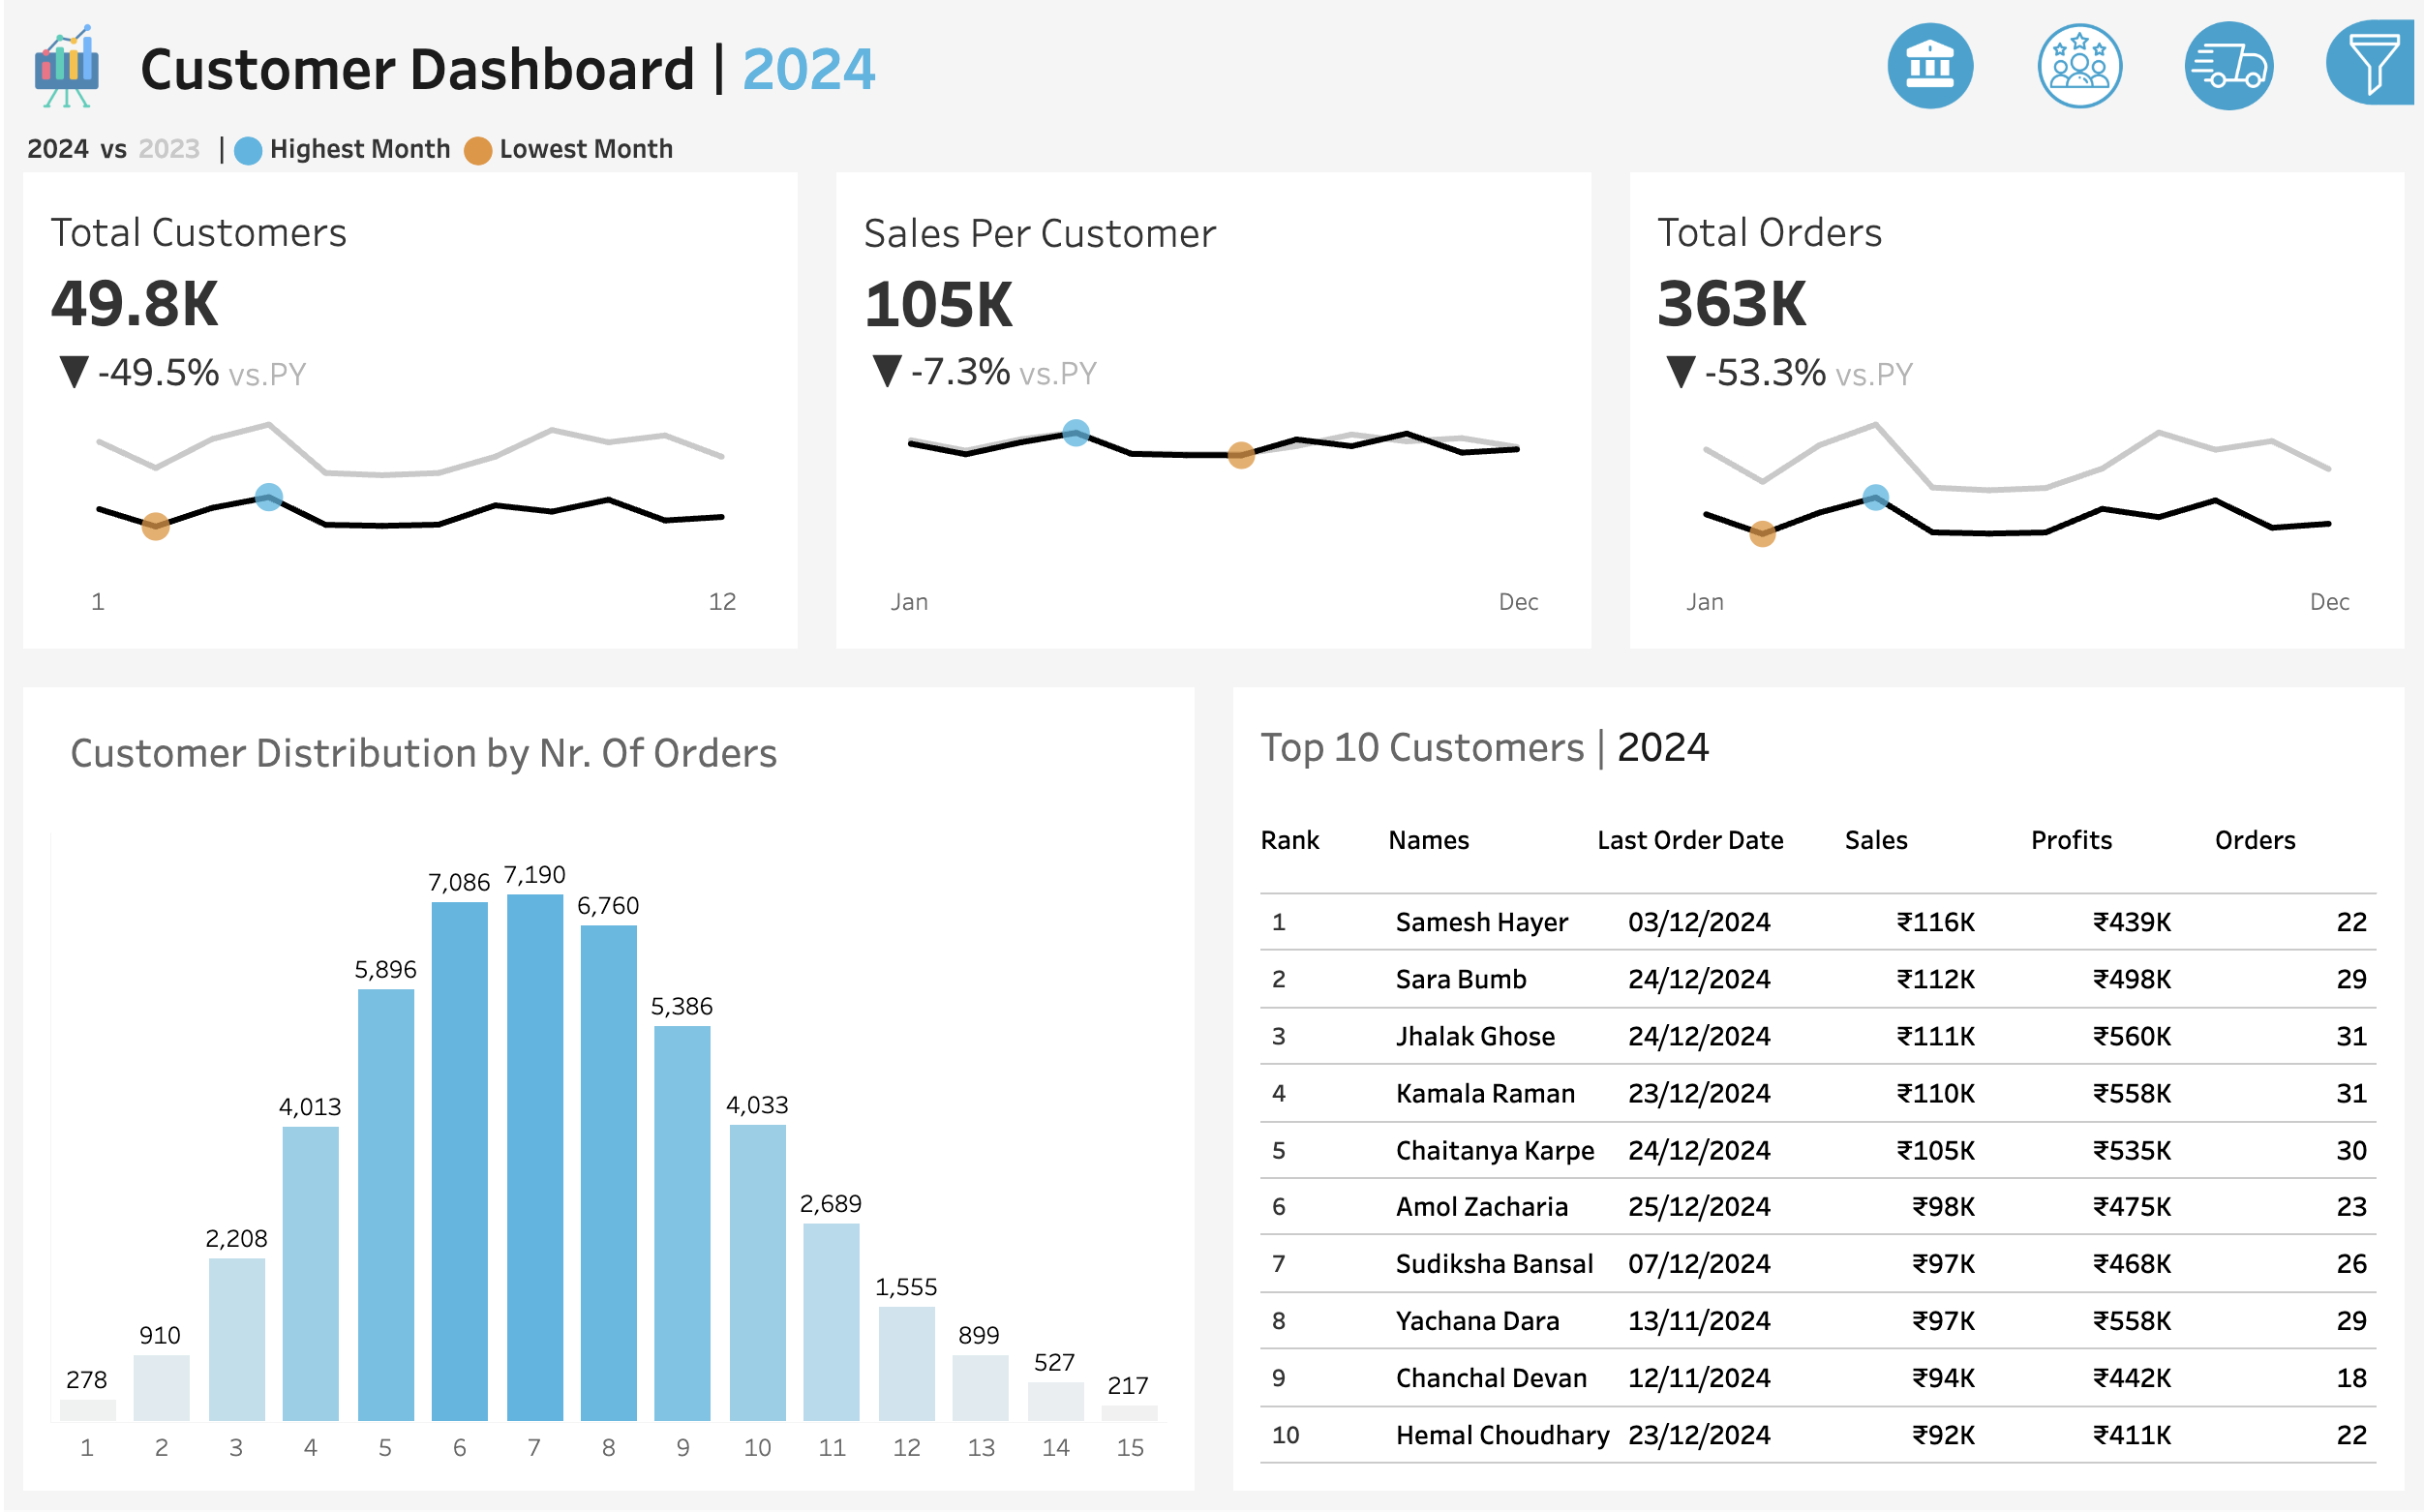

The dashboard page shown, as its layout file describes it:
{"tool":"tableau","page":{"name":"Customer Dashboard","canvas":[1250,780],"ordinal":0},"visuals":[{"type":"image","param":"/Users/mohidshaik/Downloads/metrics.png","box":[0,5,70,58]},{"type":"text","box":[70,5,884,58]},{"type":"blank","box":[1190,5,55,58]},{"type":"dashboard-object","box":[956,7,78,54]},{"type":"dashboard-object","box":[1034,7,77,54]},{"type":"dashboard-object","box":[1111,7,77,54]},{"type":"dashboard-object","box":[1192,9,59,47]},{"type":"worksheet","title":"KPI LEGEND","mark":"Automatic","box":[0,63,1250,26]},{"type":"blank","box":[1061,70,171,32]},{"type":"worksheet","title":"KPI Customers","mark":"Automatic","rows":["Calculation_4616611834766671875"],"cols":["order_date"],"box":[10,89,410,246]},{"type":"worksheet","title":"KPI sales per Customer","mark":"Automatic","rows":["Calculation_4675721580170485761"],"cols":["order_date"],"box":[420,89,410,246]},{"type":"worksheet","title":"KPI Orders","mark":"Line","rows":["Calculation_4675721580190187525"],"cols":["order_date"],"box":[830,89,410,246]},{"type":"text","box":[1061,102,171,32]},{"type":"parameter","param":"[Parameters].[Parameter 1]","box":[1061,134,171,95]},{"type":"blank","box":[1061,229,171,28]},{"type":"filter","title":"KPI Customers","param":"[federated.0jrxjab129si8m1czdj530nh74pa].[none:delivered_city:nk]","box":[1061,257,171,73]},{"type":"blank","box":[1061,330,171,32]},{"type":"filter","title":"KPI Customers","param":"[federated.0jrxjab129si8m1czdj530nh74pa].[none:Category:nk]","box":[1061,362,171,73]},{"type":"text","box":[20,365,585,46]},{"type":"text","box":[645,365,585,44]},{"type":"text","box":[645,409,66,48]},{"type":"text","box":[711,409,107.8,48]},{"type":"text","box":[818.8,409,128,48]},{"type":"text","box":[946.8,409,95.8,48]},{"type":"text","box":[1042.5,409,95.8,48]},{"type":"text","box":[1138.2,409,91.8,48]},{"type":"worksheet","title":" Orders per Customer","mark":"Bar","rows":["Calculation_3329356394782736388"],"cols":["Calculation_3367636991623016450"],"box":[20,411,585,349]},{"type":"worksheet","title":"Top 10 Customers","mark":"Automatic","rows":["Calculation_3367636991626997764","Calculation_3367636991629578246","order_date"],"box":[645,457,585,303]}]}

Visuals, with their boxes in screenshot pixels (x1, y1, x2, y2), scaled from the page's 1250x780 canvas onto the 2424x1512 screenshot:
image: <region>0, 10, 136, 122</region>
text: <region>136, 10, 1850, 122</region>
blank: <region>2308, 10, 2414, 122</region>
dashboard-object: <region>1854, 14, 2005, 118</region>
dashboard-object: <region>2005, 14, 2155, 118</region>
dashboard-object: <region>2155, 14, 2304, 118</region>
dashboard-object: <region>2312, 17, 2423, 108</region>
"KPI LEGEND" worksheet: <region>0, 122, 2423, 172</region>
blank: <region>2057, 136, 2389, 197</region>
"KPI Customers" worksheet: <region>19, 172, 814, 650</region>
"KPI sales per Customer" worksheet: <region>814, 172, 1610, 650</region>
"KPI Orders" worksheet (Line marks): <region>1610, 172, 2405, 650</region>
text: <region>2057, 197, 2389, 259</region>
parameter: <region>2057, 259, 2389, 444</region>
blank: <region>2057, 444, 2389, 499</region>
"KPI Customers" filter: <region>2057, 499, 2389, 640</region>
blank: <region>2057, 640, 2389, 702</region>
"KPI Customers" filter: <region>2057, 702, 2389, 843</region>
text: <region>39, 708, 1173, 797</region>
text: <region>1251, 708, 2385, 793</region>
text: <region>1251, 793, 1379, 886</region>
text: <region>1379, 793, 1588, 886</region>
text: <region>1588, 793, 1836, 886</region>
text: <region>1836, 793, 2022, 886</region>
text: <region>2021, 793, 2207, 886</region>
text: <region>2207, 793, 2385, 886</region>
" Orders per Customer" worksheet (Bar marks): <region>39, 797, 1173, 1473</region>
"Top 10 Customers" worksheet: <region>1251, 886, 2385, 1473</region>
